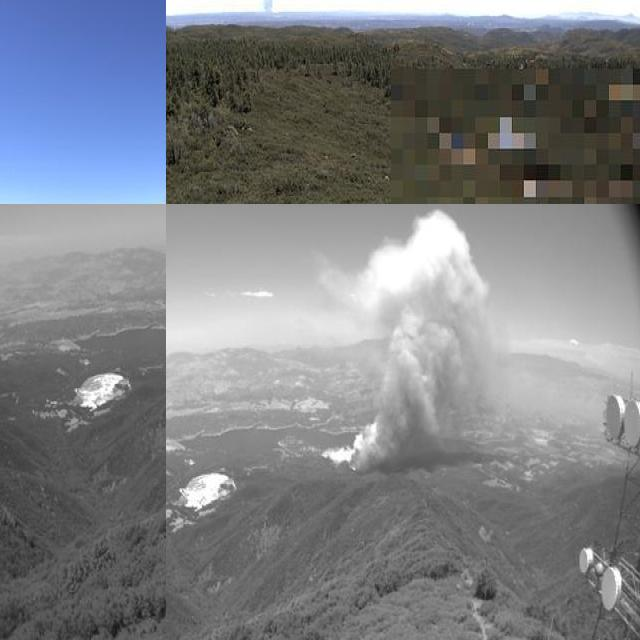smoke: (314, 205, 517, 468), (259, 0, 276, 19)
